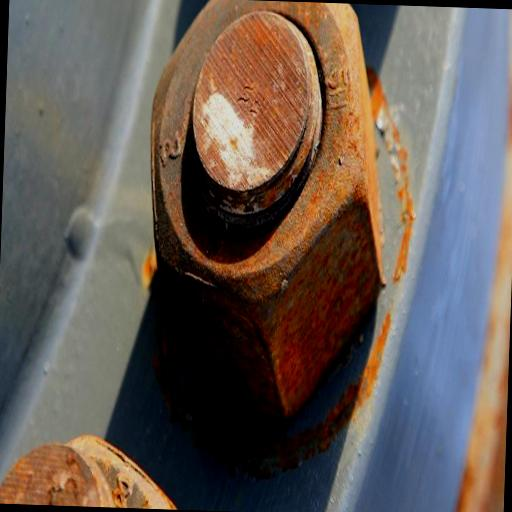segmentation: (152, 0, 384, 419), (0, 434, 176, 506), (368, 69, 386, 133)
